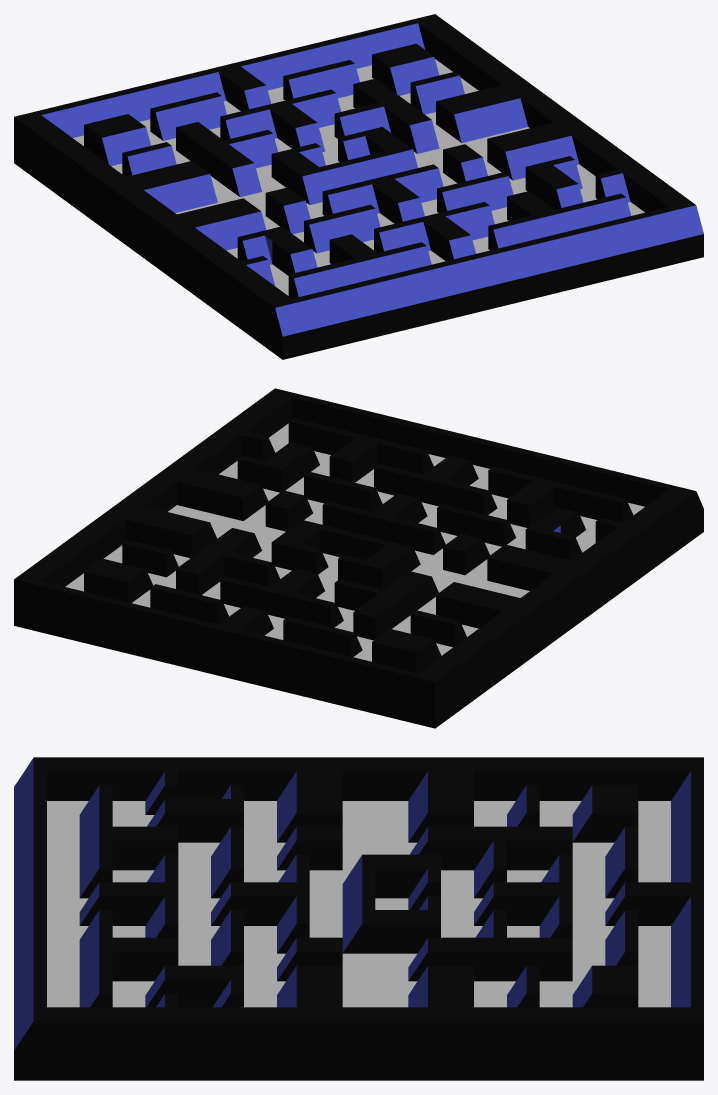
Rendered from Pac-Mini-Map.fbx.
The picture shows the model from 3 angles, top to bottom: view 1: azimuth 30°, elevation 25°; view 2: azimuth 150°, elevation 25°; view 3: azimuth 270°, elevation 25°; orthographic projection. The views are drawn at different scales.
Visible parts, largest first — view 1: Cube; view 2: Cube; view 3: Cube.
Part boxes in pixels (x1,y1,x2,y2): Cube: (14, 14, 703, 359); Cube: (14, 388, 703, 728); Cube: (14, 757, 703, 1080).
Bounding box in the file's own units: 1900 × 200 × 2100.
